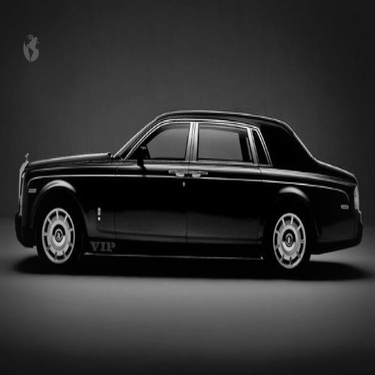car: (6, 104, 366, 278)
